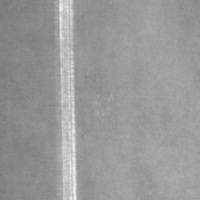scratches: (55, 1, 79, 200)
